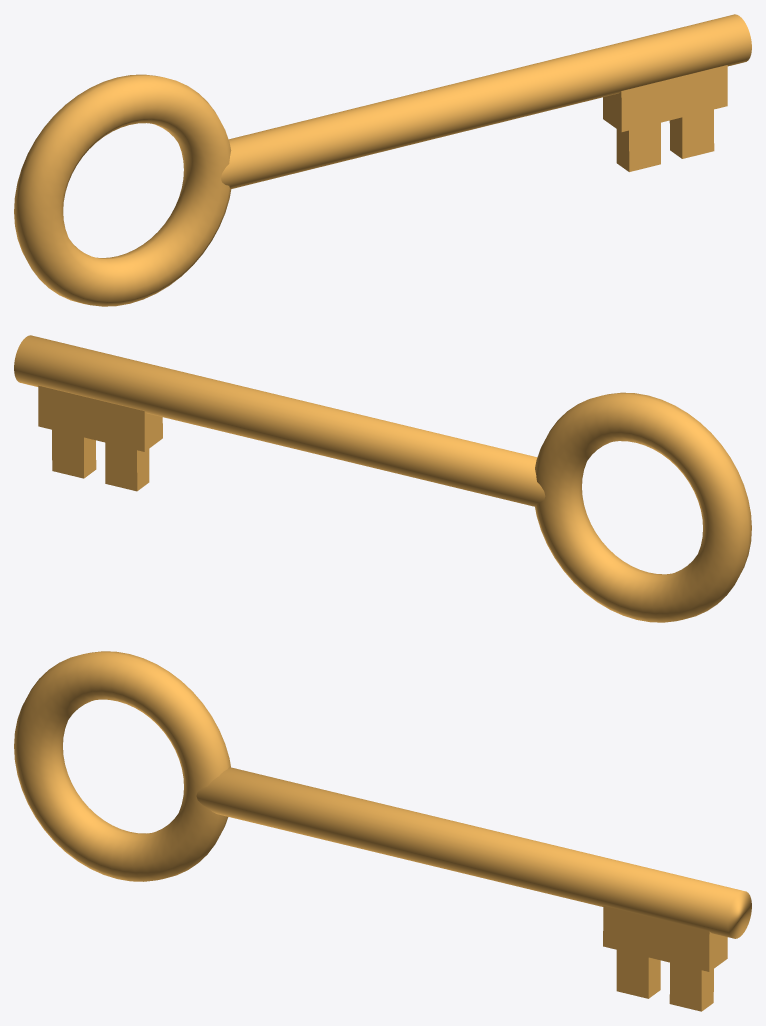
The model's file is key_model.glb.
The picture shows the model from 3 angles, top to bottom: view 1: azimuth 30°, elevation 25°; view 2: azimuth 150°, elevation 25°; view 3: azimuth 330°, elevation 25°; orthographic projection.
Visible parts, largest first — view 1: Cube.001; view 2: Cube.001; view 3: Cube.001.
Boxes of the visible parts, left/top/right/bottom form: Cube.001: left=14, top=14, right=751, bottom=306; Cube.001: left=14, top=335, right=751, bottom=622; Cube.001: left=14, top=651, right=751, bottom=1011.
Bounding box in the file's own units: 6.8 × 2 × 0.4381.
